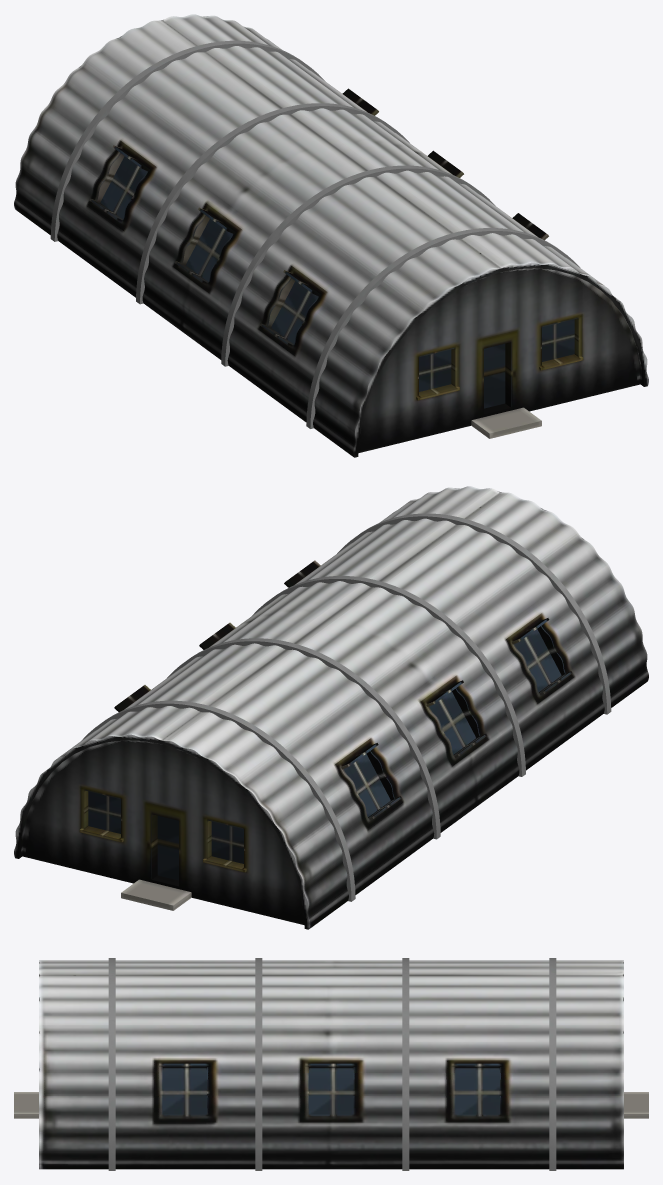
File: quonsetclean_cad.glb
3 views of the same model, one above another, from view 1: azimuth 30°, elevation 25°; view 2: azimuth 150°, elevation 25°; view 3: azimuth 270°, elevation 25° (orthographic). The views are drawn at different scales.
Parts seen in each view (by area): view 1: Quonset hut; view 2: Quonset hut; view 3: Quonset hut.
Boxes of the visible parts, <box> form: Quonset hut: <box>14,14,648,457</box>; Quonset hut: <box>14,486,648,929</box>; Quonset hut: <box>14,958,648,1170</box>.
Size of the model in its own units: 8.62 by 4.31 by 18.29.
Materials: 1 (1 with a texture image).
